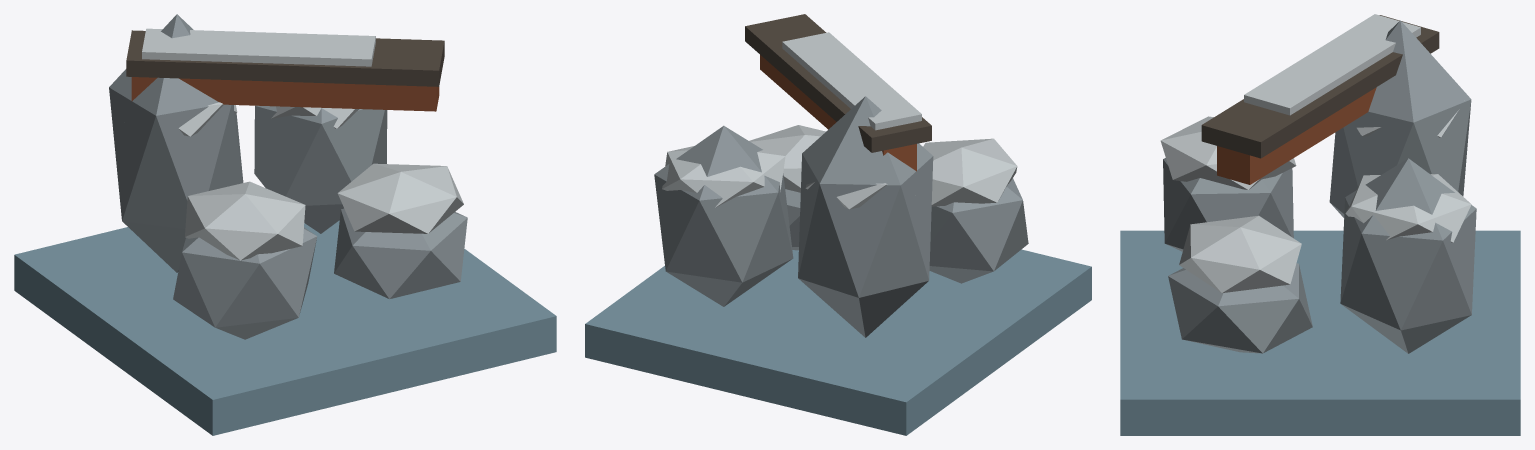
Rendered from frozen_debris.glb.
3 views of the same model, side by side, from view 1: azimuth 30°, elevation 25°; view 2: azimuth 150°, elevation 25°; view 3: azimuth 270°, elevation 25° (orthographic). The views are drawn at different scales.
Visible parts, largest first — view 1: frozen_debris; view 2: frozen_debris; view 3: frozen_debris.
Boxes of the visible parts, x1,y1,x2,y2 form: frozen_debris: (14,14,556,435); frozen_debris: (585,14,1091,435); frozen_debris: (1120,14,1520,435).
Size of the model in its own units: 1 by 0.82 by 1.
